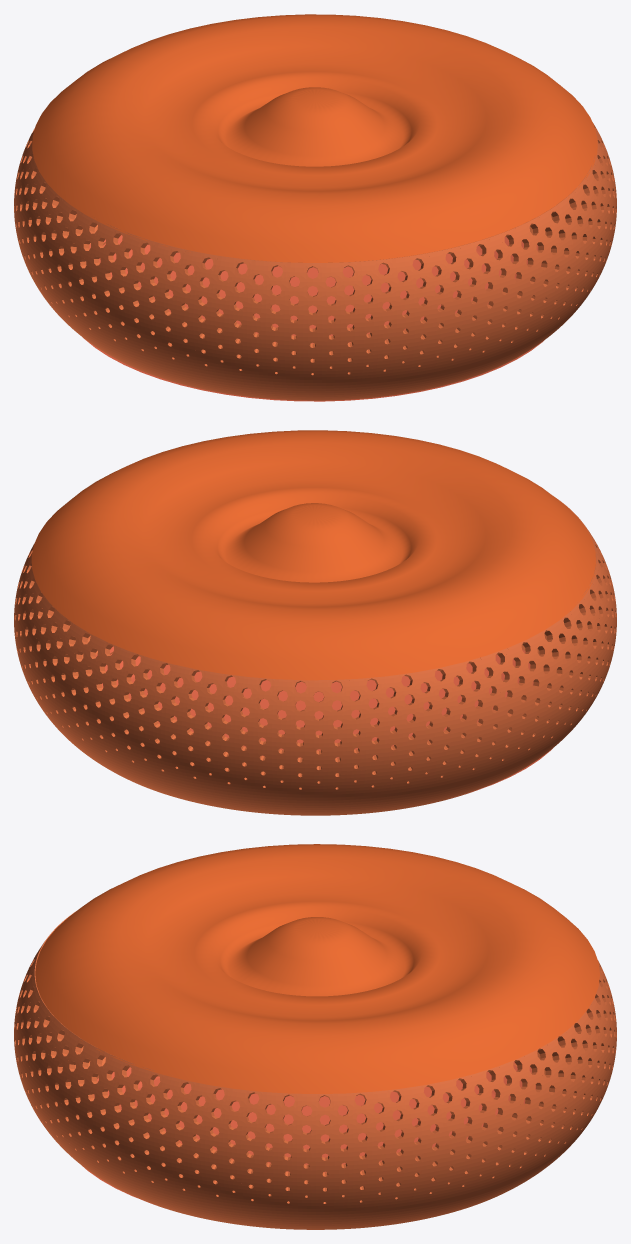
File: futuristic_speaker.fbx
3 renders of one model, top to bottom at view 1: azimuth 30°, elevation 25°; view 2: azimuth 150°, elevation 25°; view 3: azimuth 270°, elevation 25°, orthographic.
Parts seen in each view (by area): view 1: Circle, Plane, Cube.001; view 2: Circle, Plane, Cube.001; view 3: Circle, Plane, Cube.001.
Part boxes in pixels (x1,y1,x2,y2): Circle: (32,14,597,262); Plane: (14,122,616,400); Cube.001: (83,235,543,401); Circle: (31,430,597,680); Plane: (14,496,616,815); Cube.001: (91,646,552,797); Circle: (35,844,599,1093); Plane: (14,911,616,1229); Cube.001: (82,1062,535,1203).
Bounding box in the file's own units: 543 × 223 × 543.
